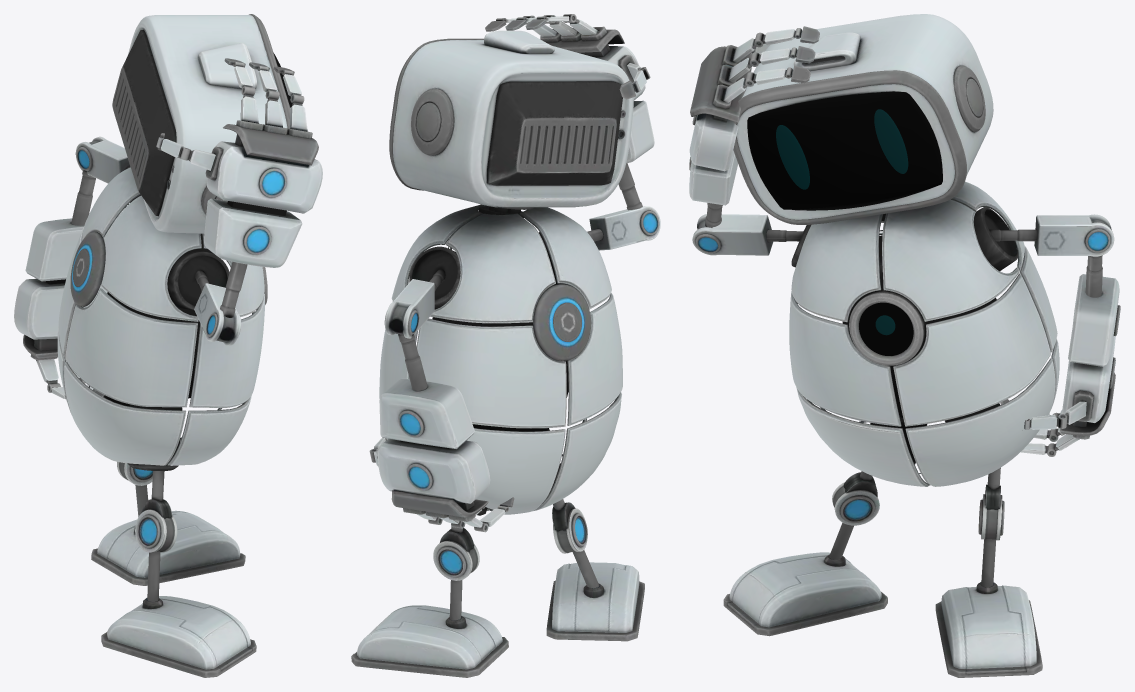
3 renders of one model, left to right at view 1: azimuth 30°, elevation 25°; view 2: azimuth 150°, elevation 25°; view 3: azimuth 270°, elevation 25°, orthographic. The views are drawn at different scales.
Visible parts, largest first — view 1: bodyMid_Max_Robot_Fixed_T_0; view 2: bodyMid_Max_Robot_Fixed_T_0; view 3: bodyMid_Max_Robot_Fixed_T_0, screenFace_maxRobot_screen_M_0, screenBack_MAxRobot_screenBack_M_0, neutral_L_maxRobot_eyes_and_emotions_T_0.
Boxes of the visible parts, x1,y1,x2,y2 form: bodyMid_Max_Robot_Fixed_T_0: [14, 14, 322, 677]; bodyMid_Max_Robot_Fixed_T_0: [351, 14, 660, 677]; bodyMid_Max_Robot_Fixed_T_0: [689, 14, 1120, 677]; screenFace_maxRobot_screen_M_0: [748, 91, 942, 355]; screenBack_MAxRobot_screenBack_M_0: [747, 91, 942, 355]; neutral_L_maxRobot_eyes_and_emotions_T_0: [776, 110, 907, 334].
Size of the model in its own units: 0.6869 by 1.92 by 1.23.
4 materials, 2 textured.
